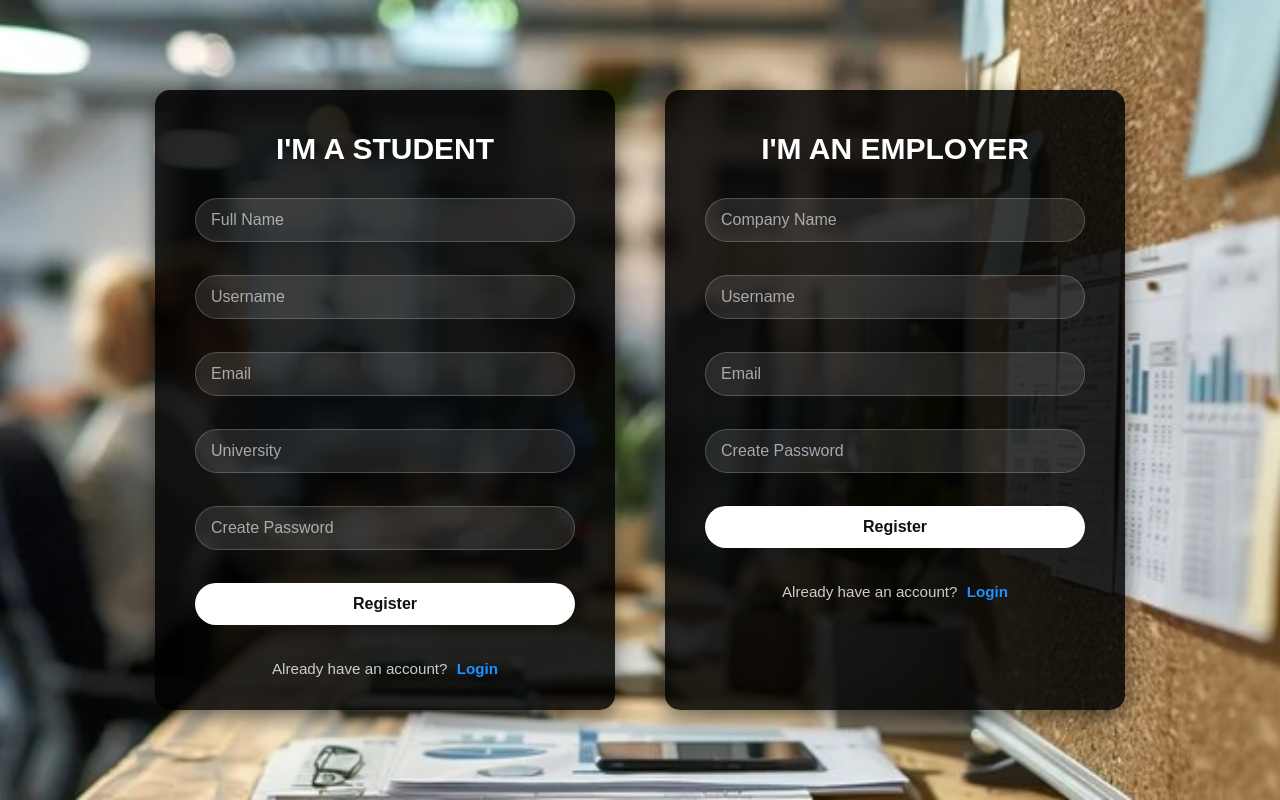
Test: Auth and Register UI › shows register error message inside employer card
The image size is (1280, 800).
Type "Test Co" into the field named "companyName" at (895, 220), box [705,198,1085,242]
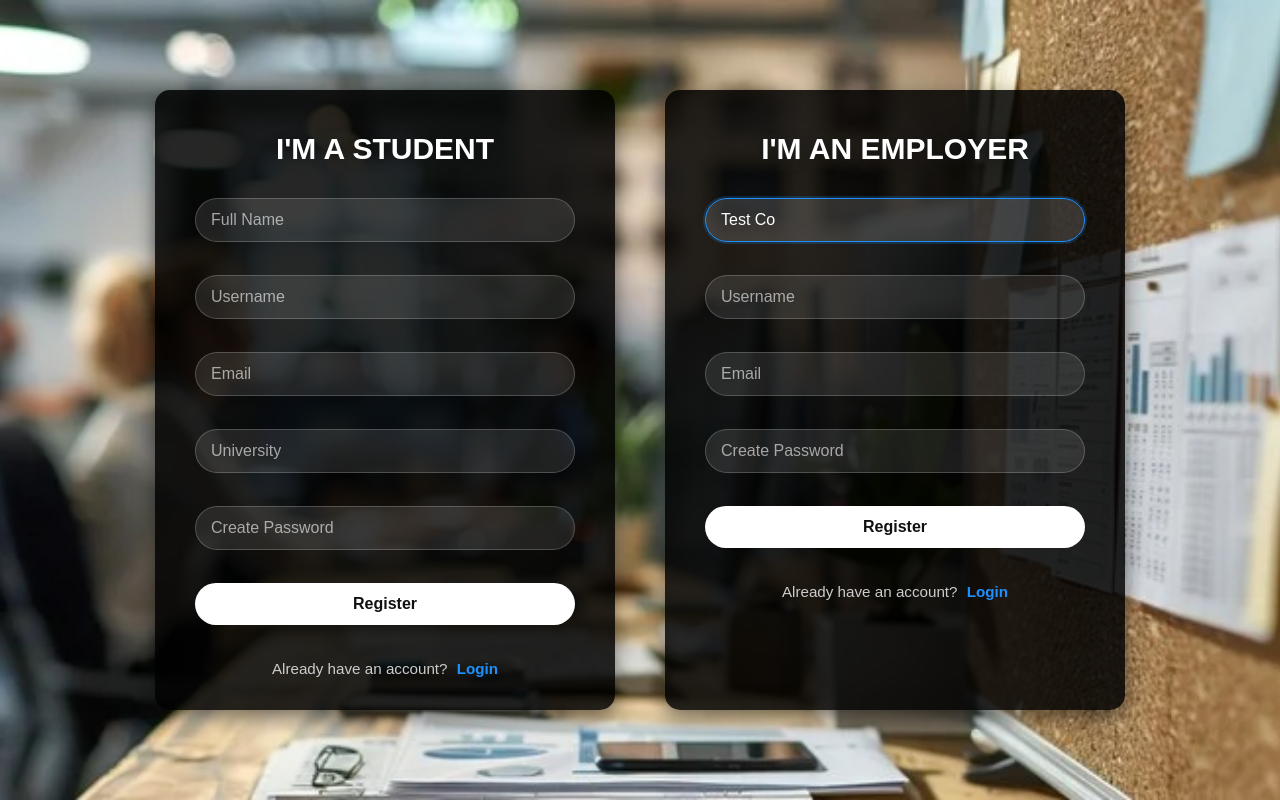
Type "employer_cy" into the field named "username" at (895, 297), box [705,275,1085,319]
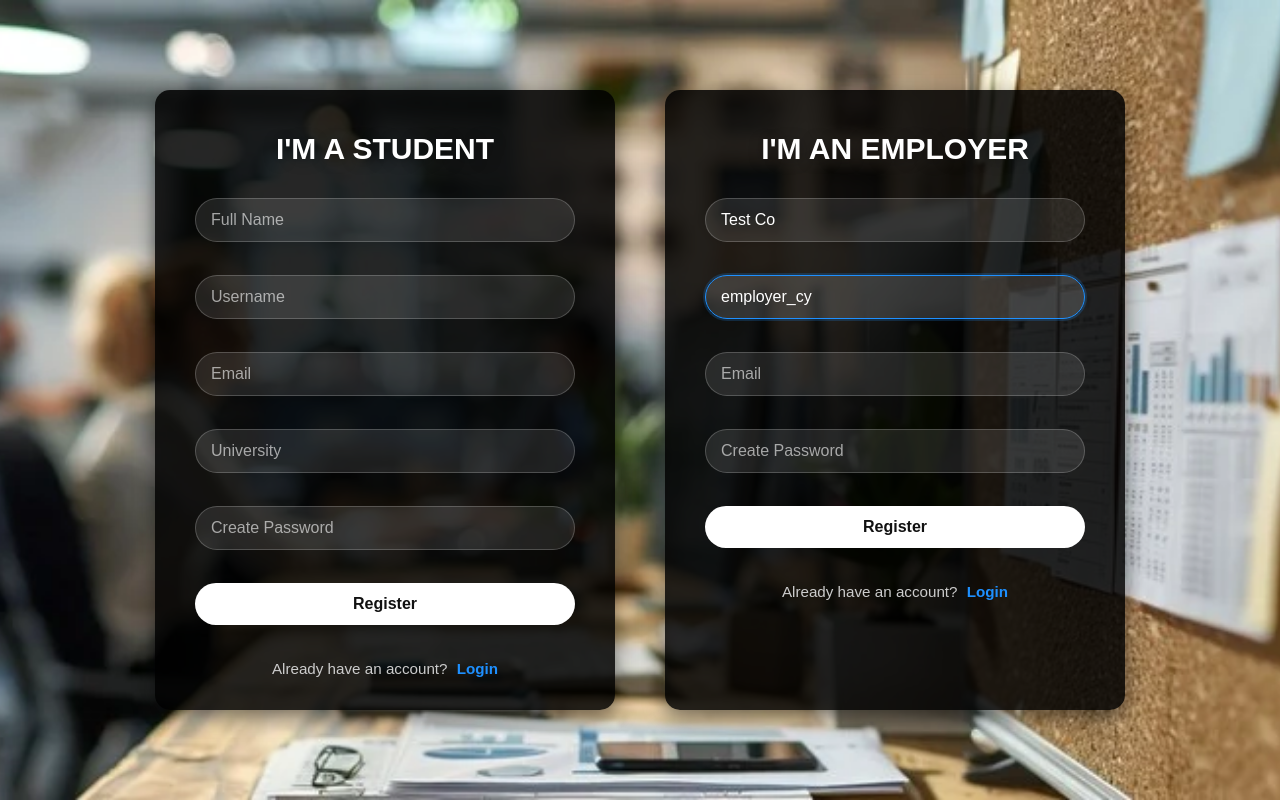
Type "existing@example.com" into the field named "email" at (895, 374), box [705,352,1085,396]
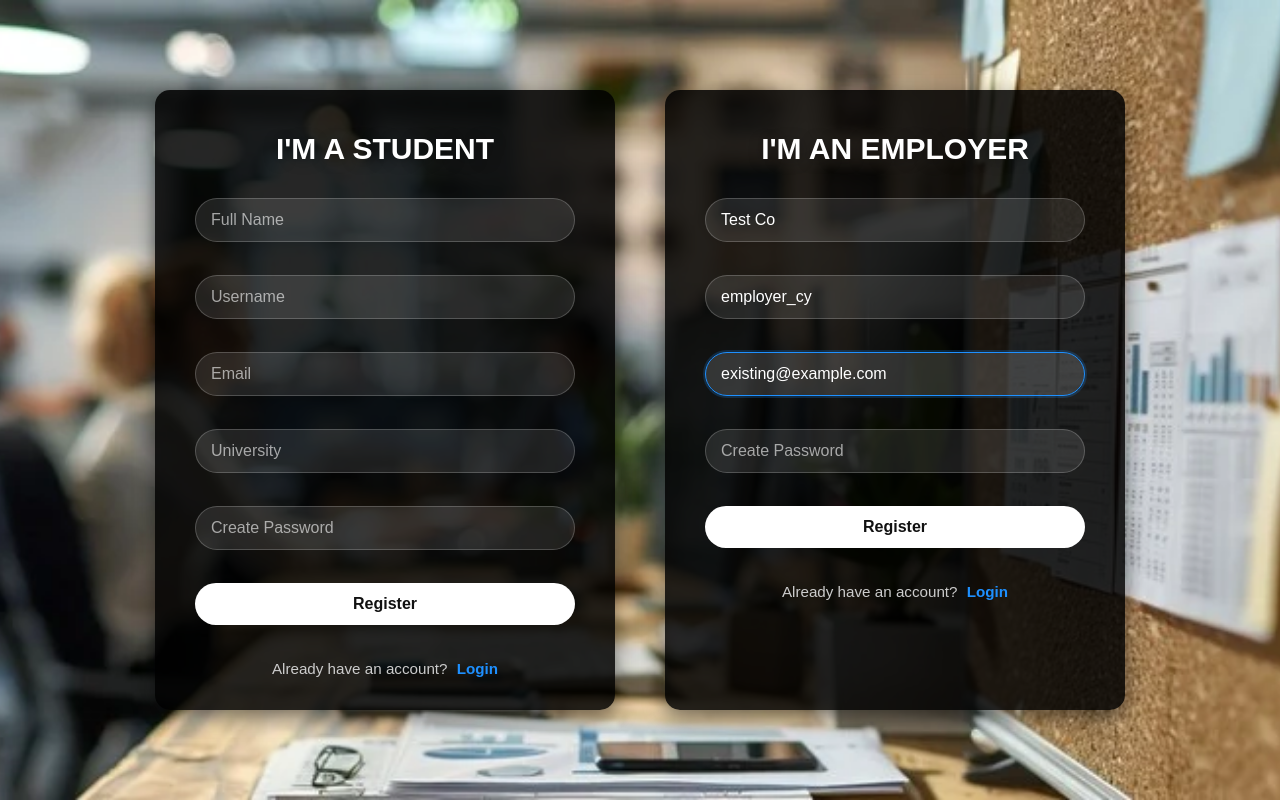
Type "password123" into the password field named "password" at (895, 451), box [705,429,1085,473]
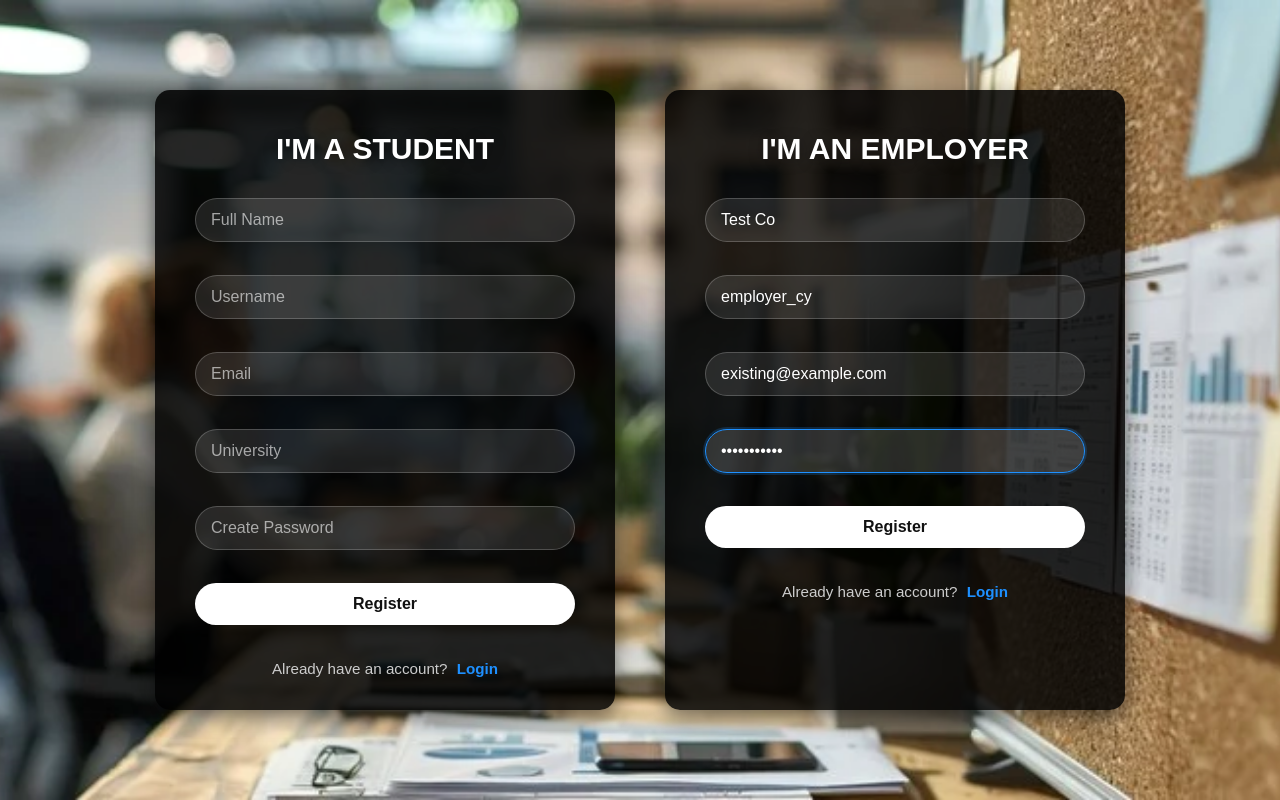
Click the 1st button "Register" at (895, 527), box [705,506,1085,548]
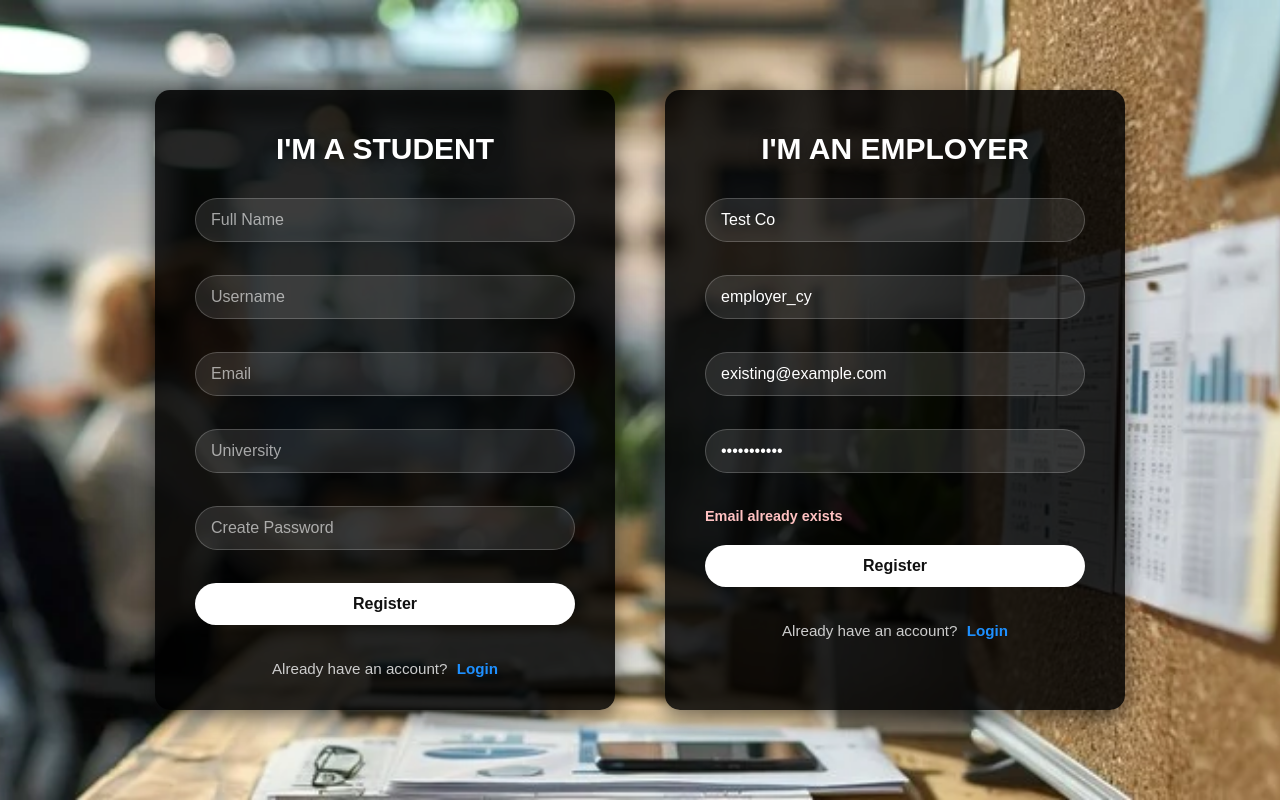
Expected: the text "Email already exists" is shown, [705,508,843,524]
